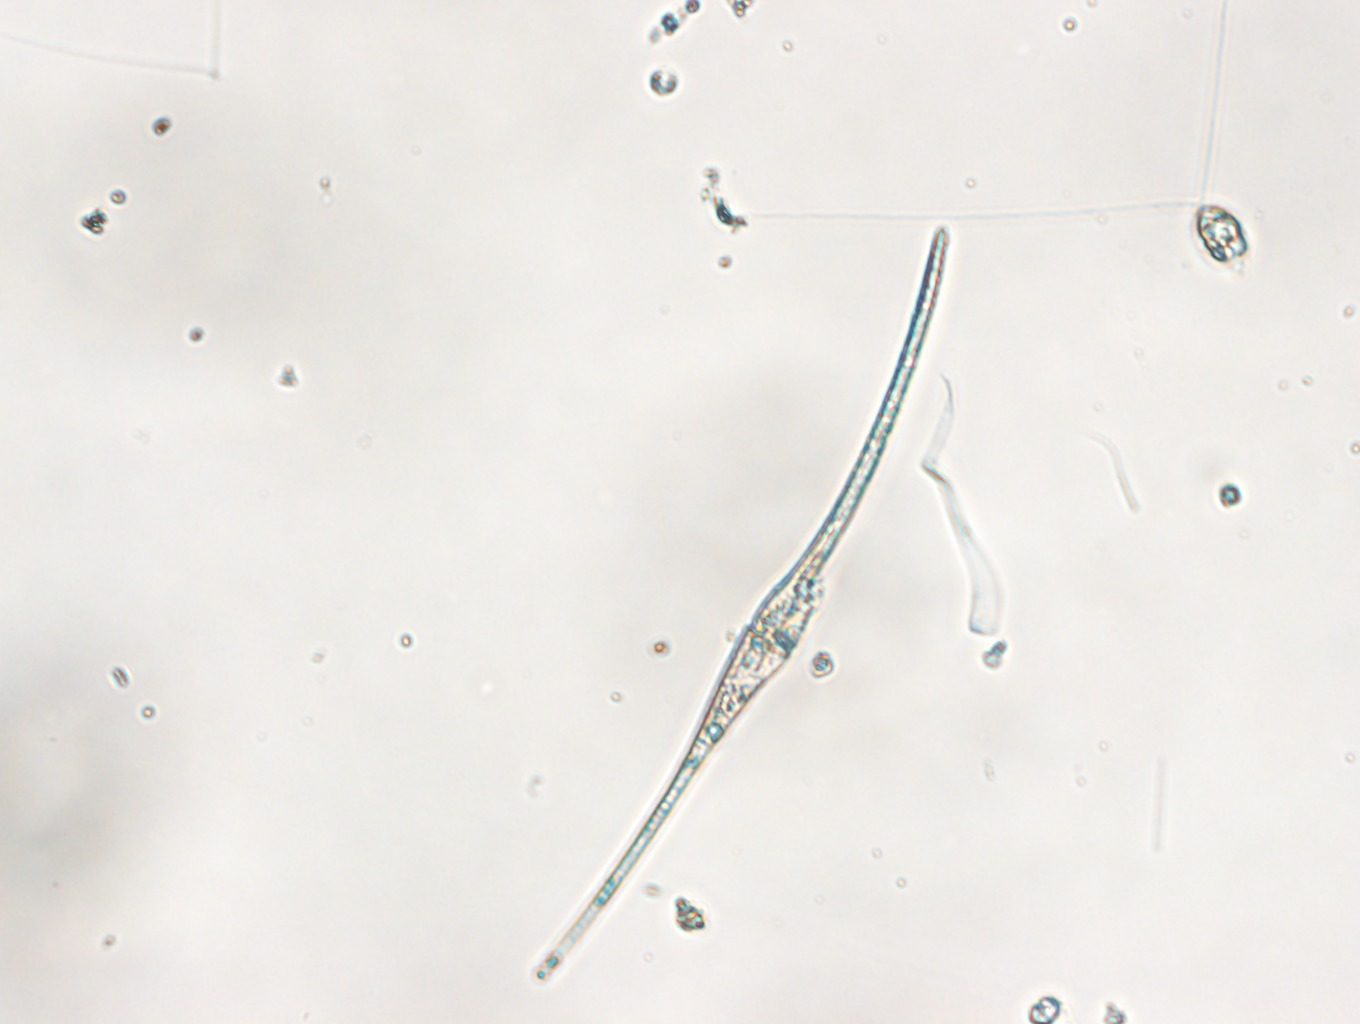ceratium fusus: (532, 219, 949, 989)
chaetoceros: (957, 1, 1249, 266)
